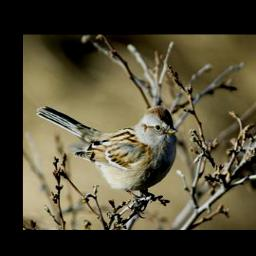Sparrow: (36, 103, 177, 219)
